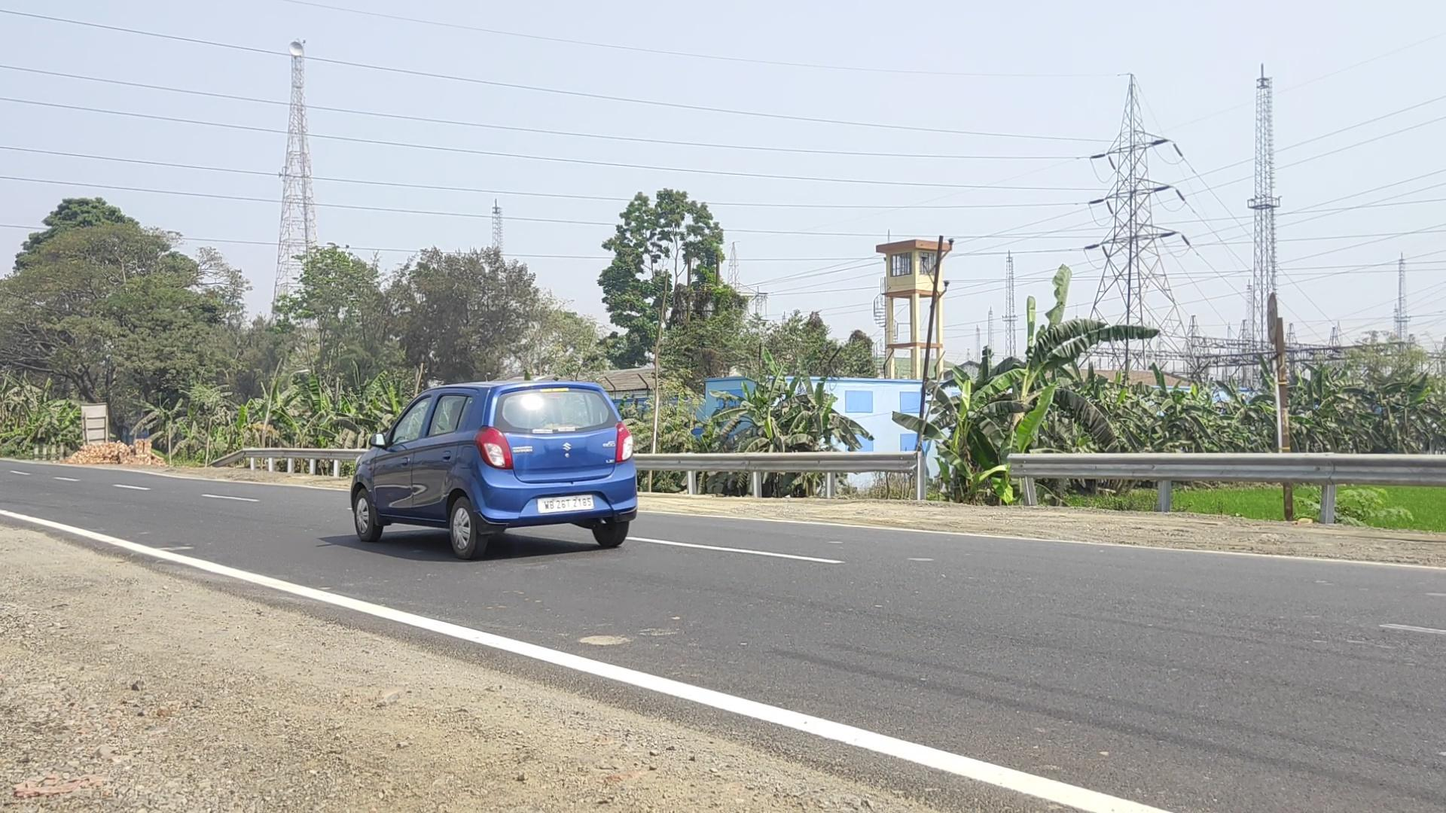car: (350, 380, 638, 560)
